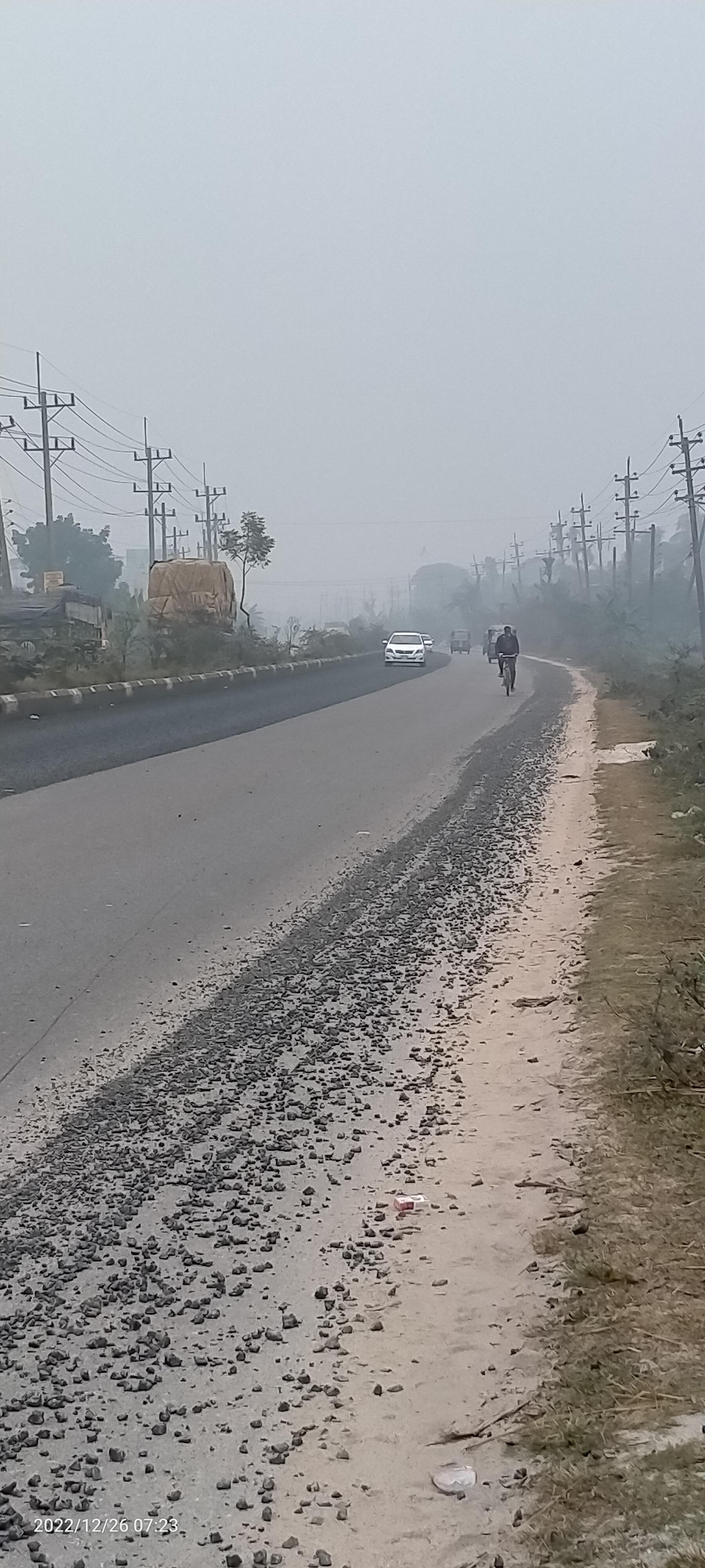Car: (374, 624, 434, 674)
Truck: (6, 573, 124, 689), (139, 550, 245, 660)
